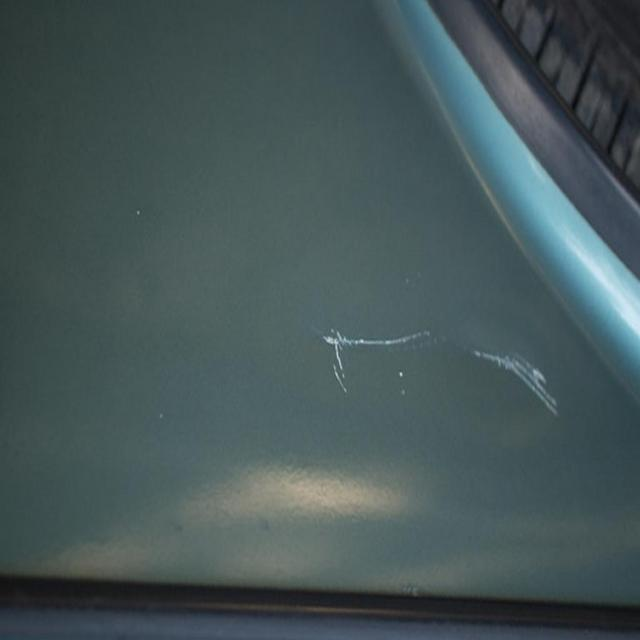scratch: (312, 309, 576, 440)
